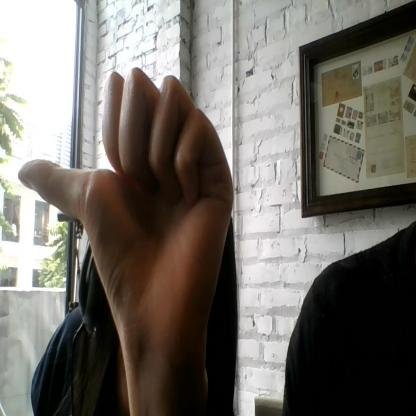right: (18, 67, 233, 347)
